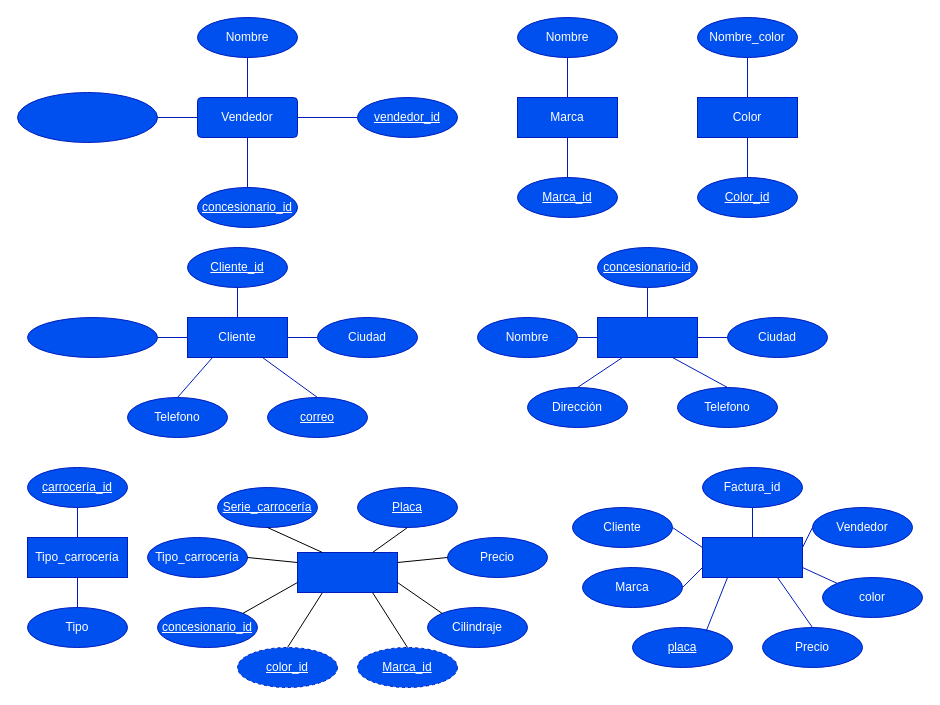
Some shapes in this 940 by 705 pixel diagram are drawn without their labels. Here are the shapes that lost their labels. From the top down, the centre of each, then its label:
point 87,117: documento_de_identidad
point 92,337: documento_identidad
point 647,337: Concesionario
point 347,572: Carro
point 752,557: Factura
